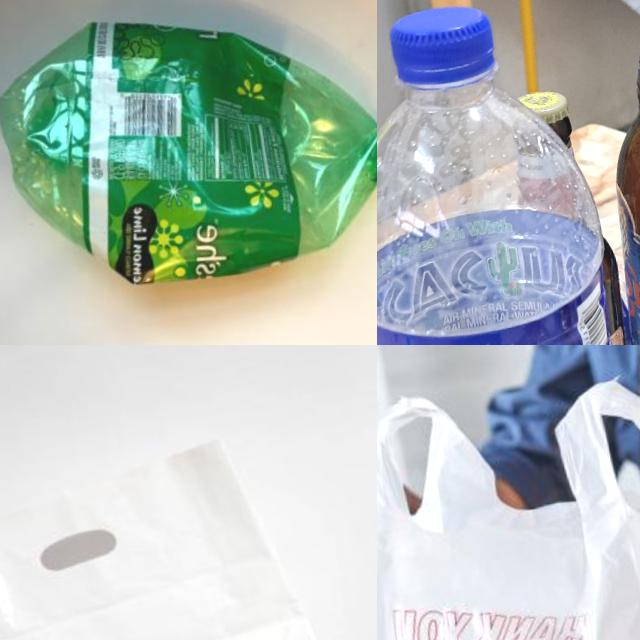garrafa de vidro: (508, 83, 639, 345), (581, 0, 640, 345)
garrafa plástica: (0, 0, 377, 303), (377, 64, 632, 345)
sacola plástica: (0, 417, 377, 640), (377, 353, 640, 640)
tampa plástica: (386, 1, 502, 86)
